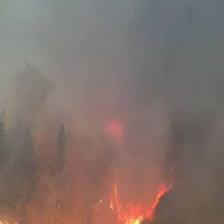fire: (82, 125, 173, 224)
